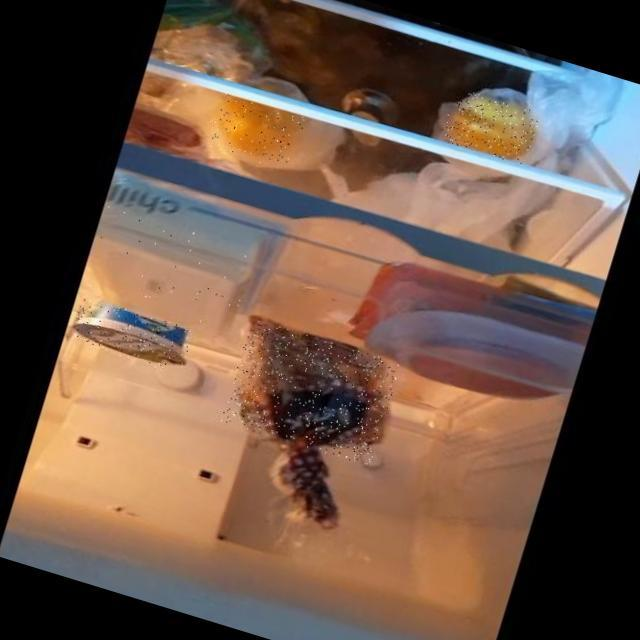Limón: (204, 90, 305, 171), (438, 85, 540, 165)
Queso: (80, 201, 265, 335)
Yogur: (68, 294, 193, 373)
bread: (220, 316, 401, 465)
